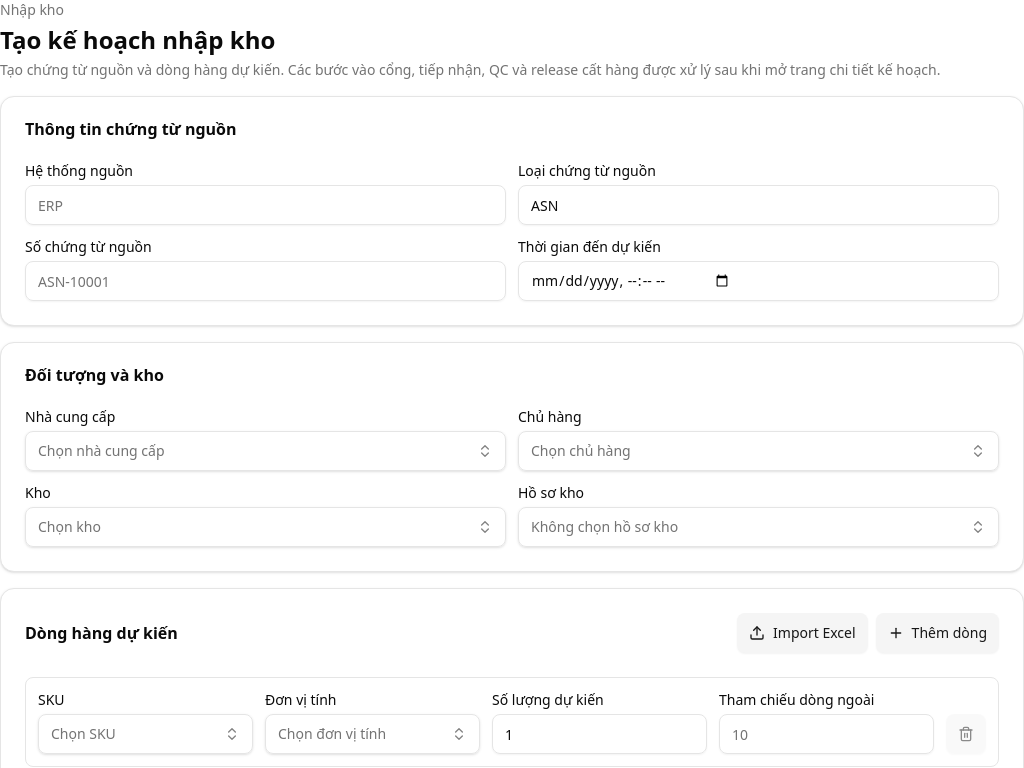
Test: InboundPlanCreatePage warehouse search (IFB-16) › selects a warehouse option through the shared combobox
Click the dropdown with id "inbound-warehouse-id".
click(69, 526)  # box [25,507,506,547]
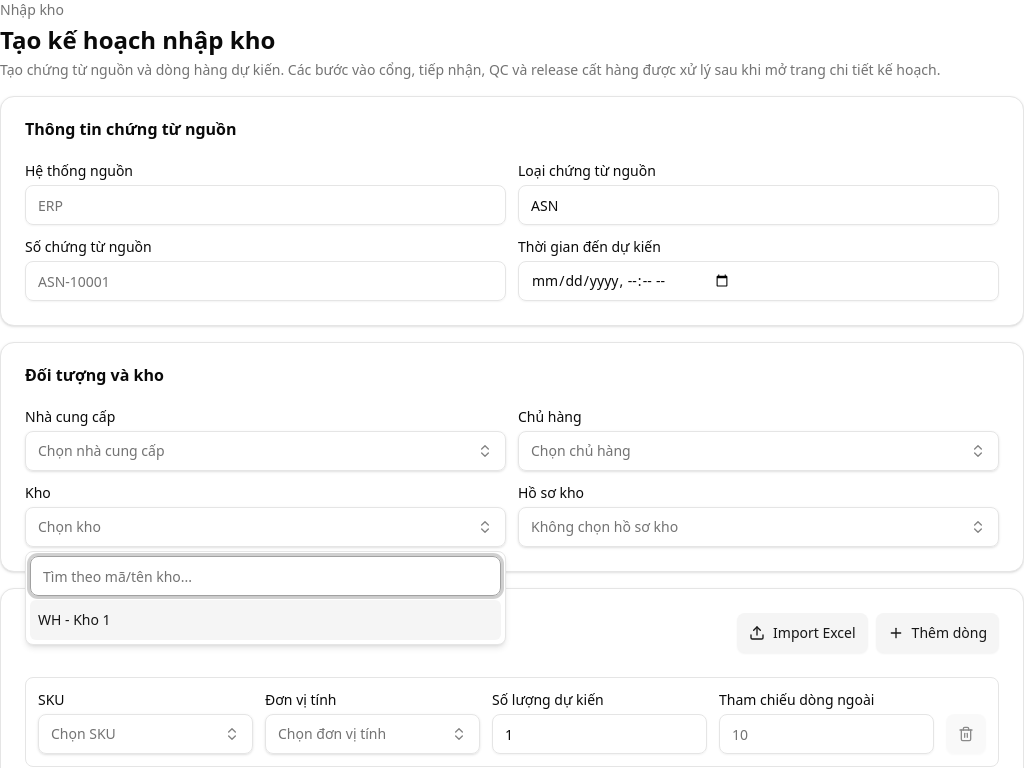
Click the option "WH - Kho 1".
click(74, 620)  # box [30,600,501,640]
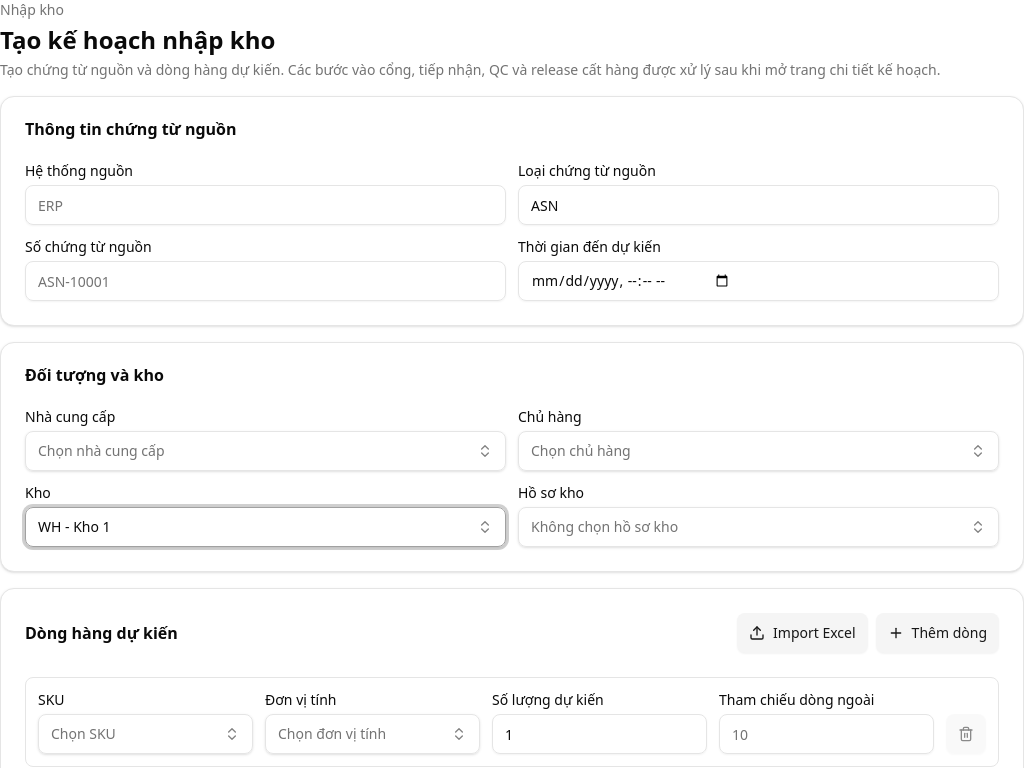
Now the dropdown with id "inbound-warehouse-id" reads "WH - Kho 1", box [25,507,506,547]
